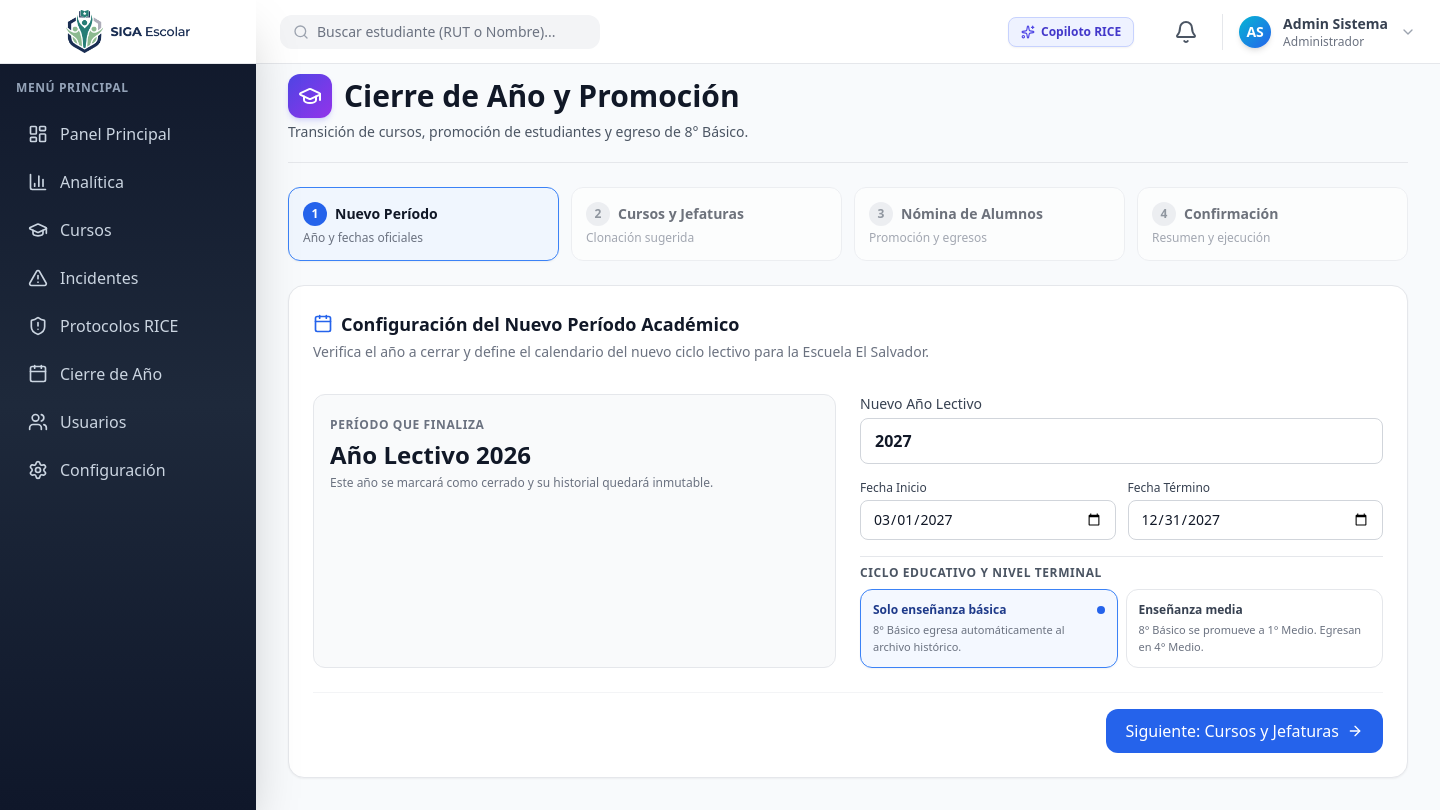
CierreAnioPage (Sprint 7 - Asistente de Promoción y Cierre de Año) › permite avanzar al Paso 3, mostrando alumnos promovidos y 8° básico como egresado
(page scrolled)
expect the heading "Cierre de Año y Promoción" is shown: met, box top-left (344, 78), bottom-right (740, 114)
Click the button "Siguiente: Cursos y Jefaturas" at (1244, 731), box top-left (1106, 709), bottom-right (1383, 753)
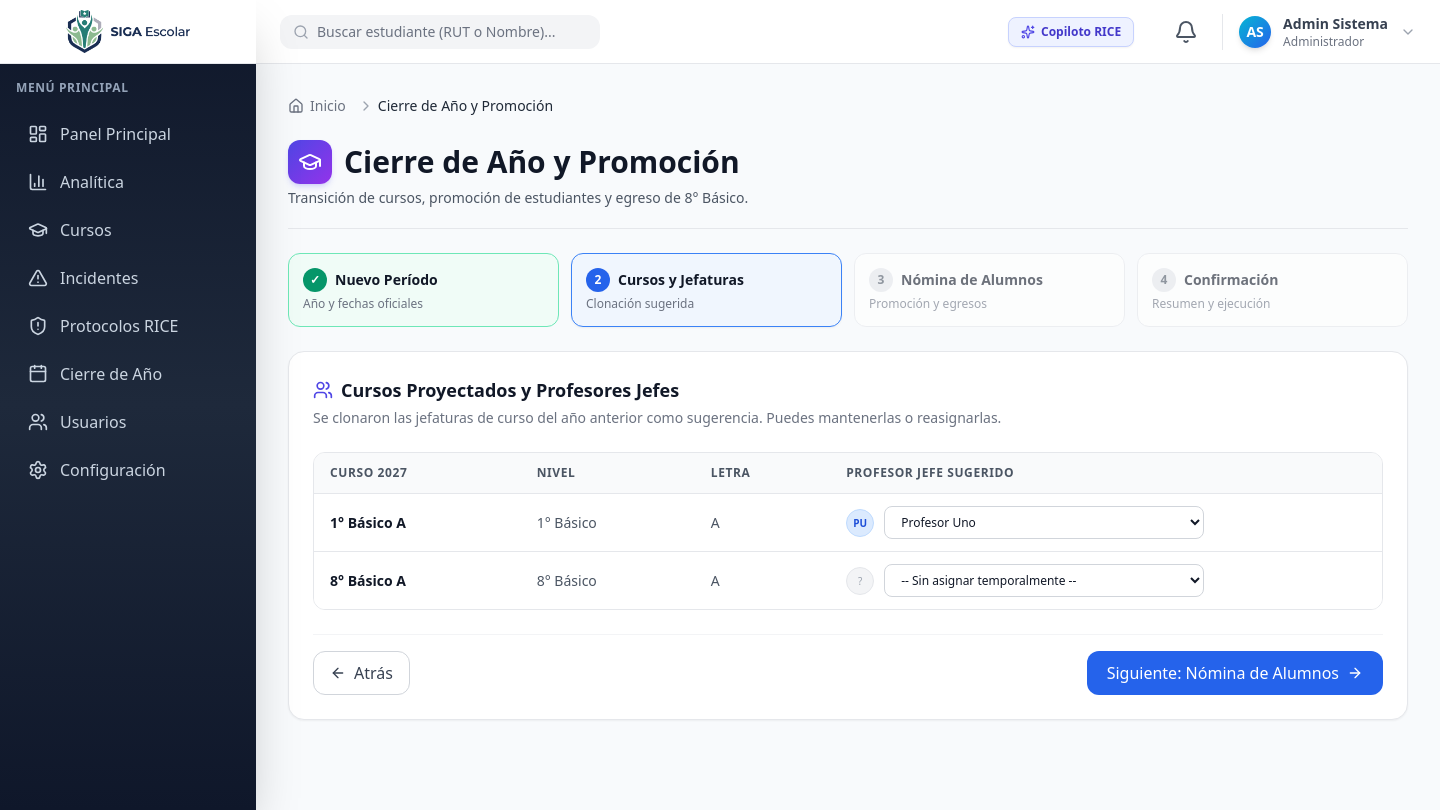
Click the button "Siguiente: Nómina de Alumnos" at (1235, 673), box top-left (1087, 651), bottom-right (1383, 695)
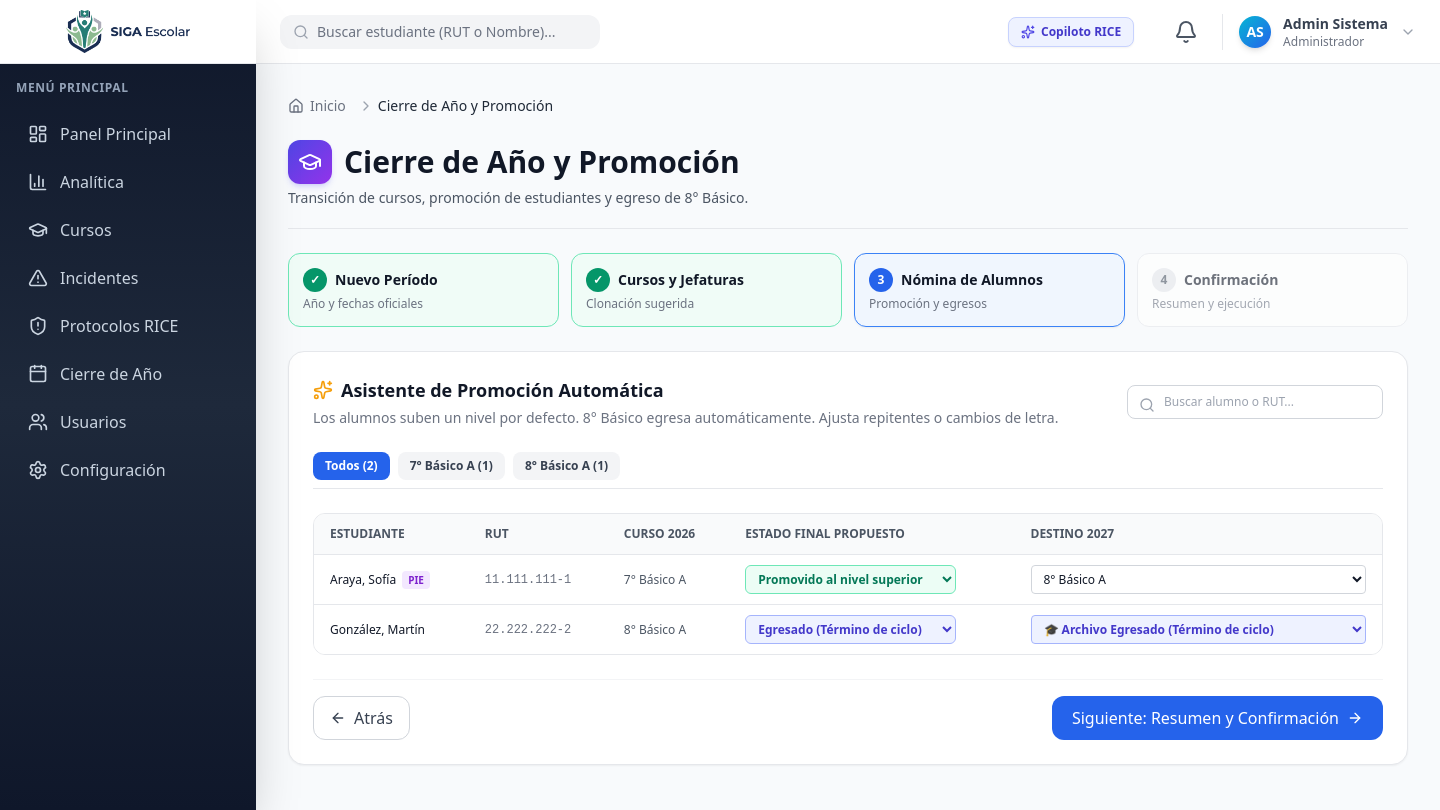
expect the heading "Asistente de Promoción Automática" is shown: met, box top-left (313, 378), bottom-right (664, 402)
expect the text "Araya, Sofía" is shown: met, box top-left (314, 554), bottom-right (469, 604)
expect the text "González, Martín" is shown: met, box top-left (314, 604), bottom-right (469, 654)
